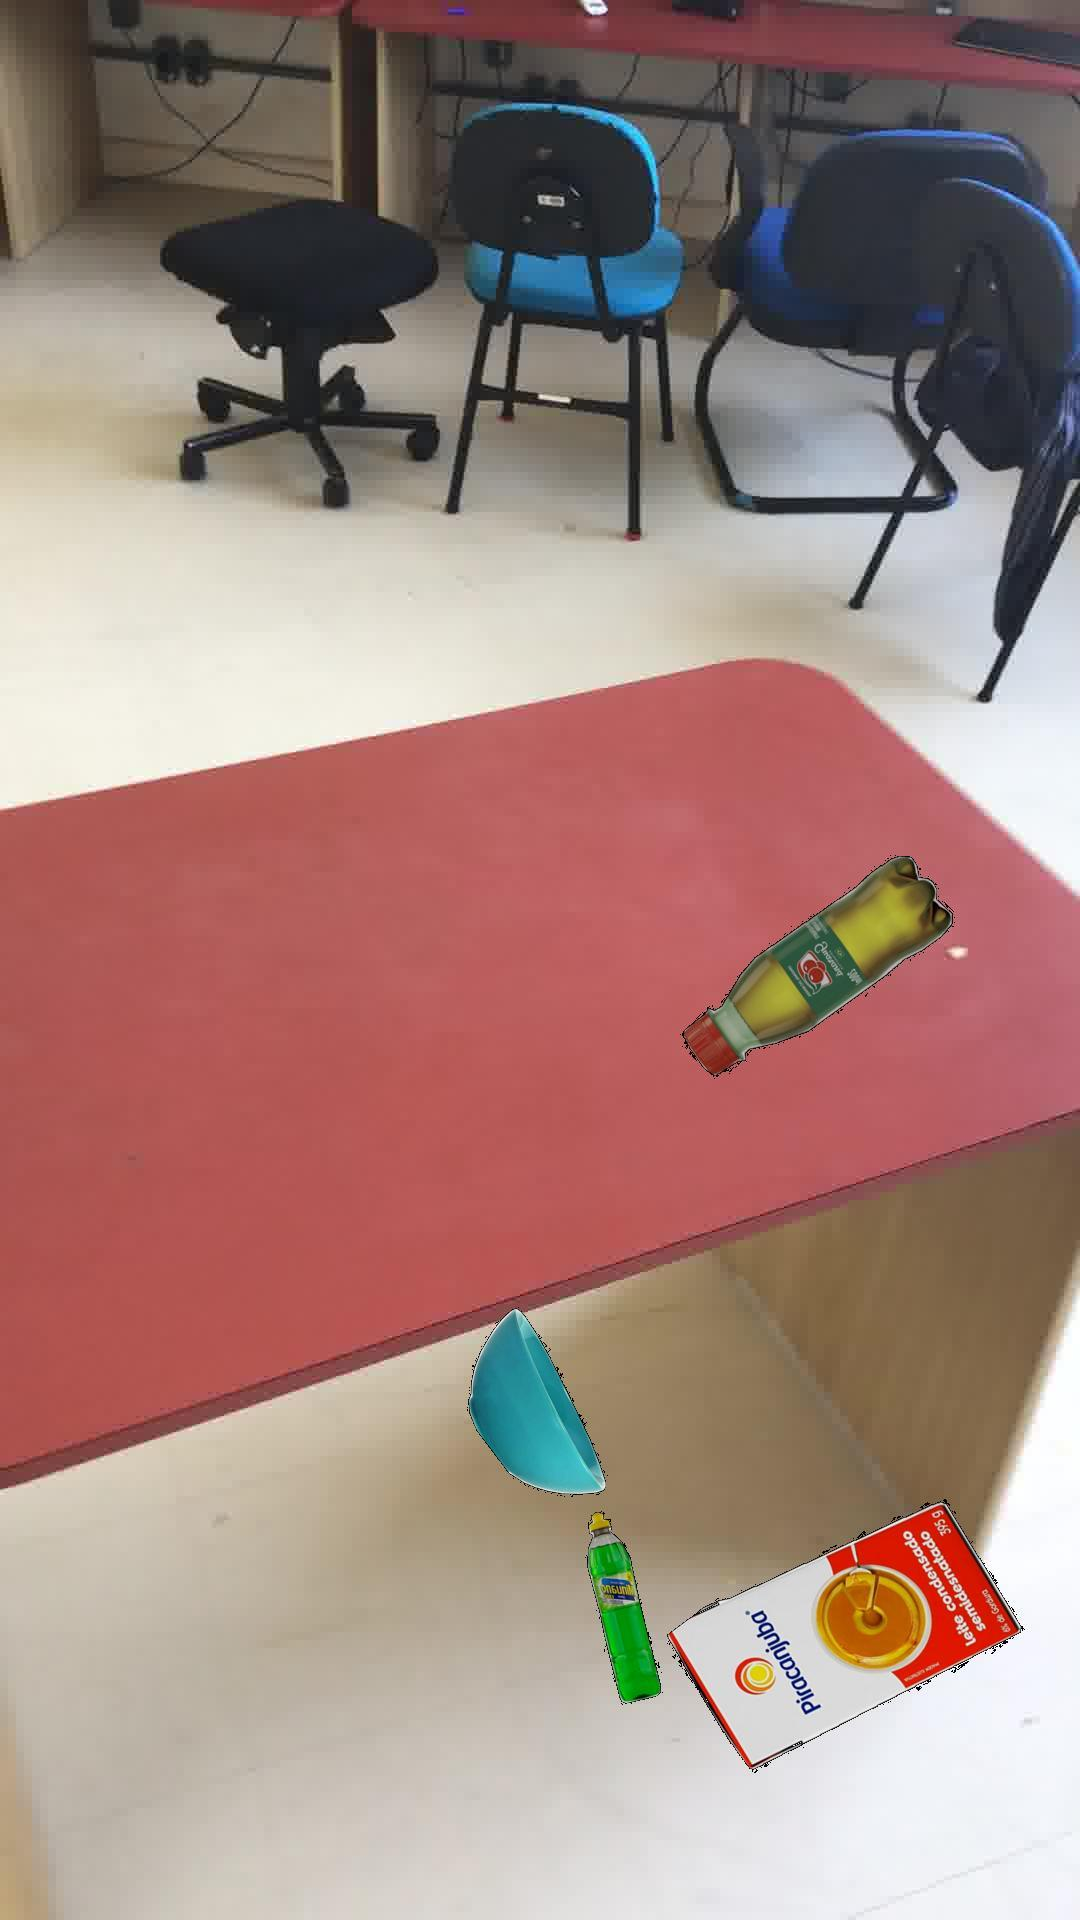bowl: (467, 1308, 604, 1494)
cleaner: (585, 1510, 659, 1702)
guarana: (680, 855, 952, 1076)
